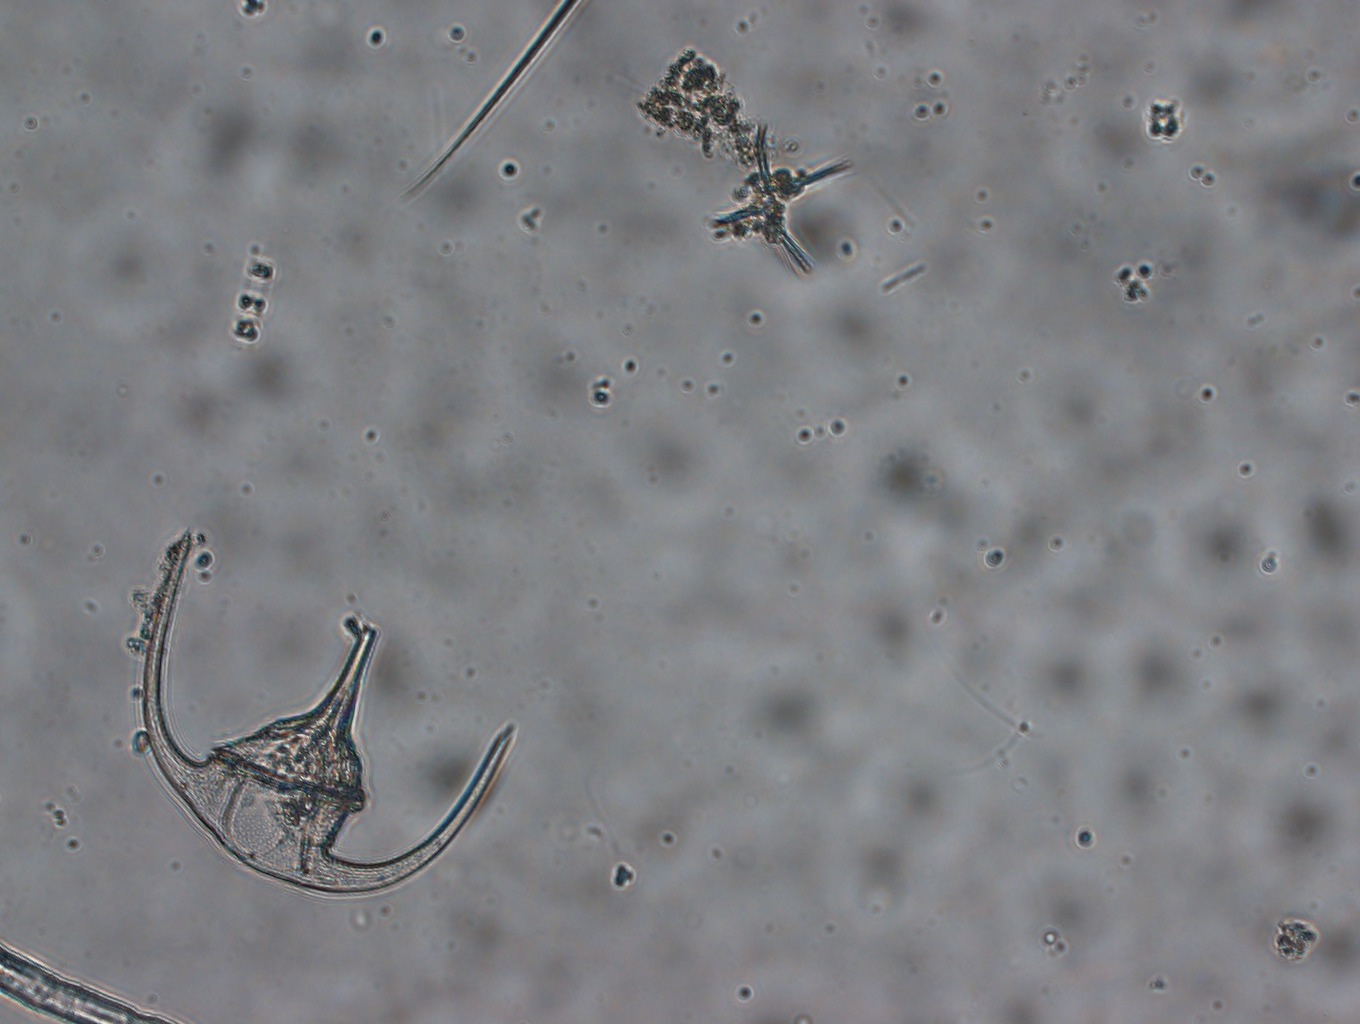ceratium tripos: (140, 525, 517, 894)
skeletonema: (231, 256, 275, 344)
